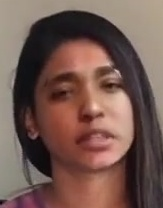eb_f: (39, 64, 129, 102)
